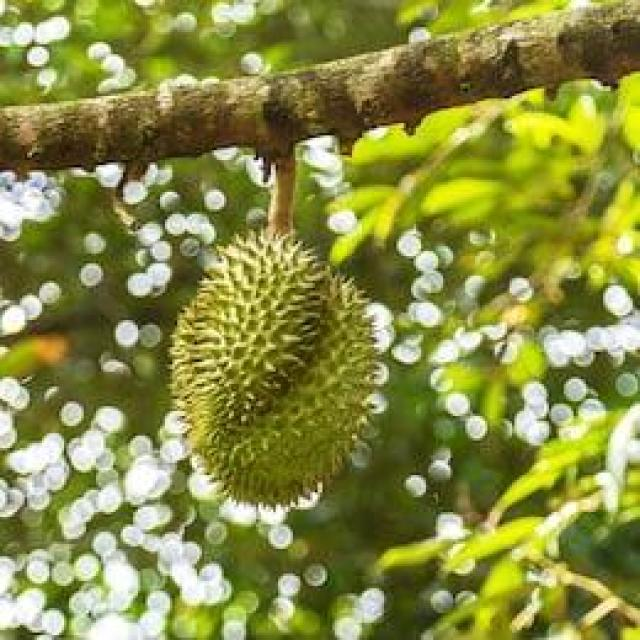immature: (165, 229, 378, 513)
